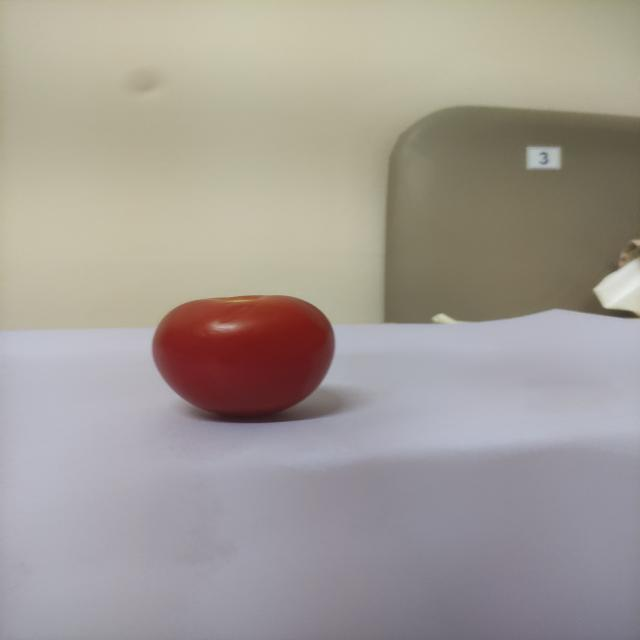kirmizi: (138, 289, 341, 421)
